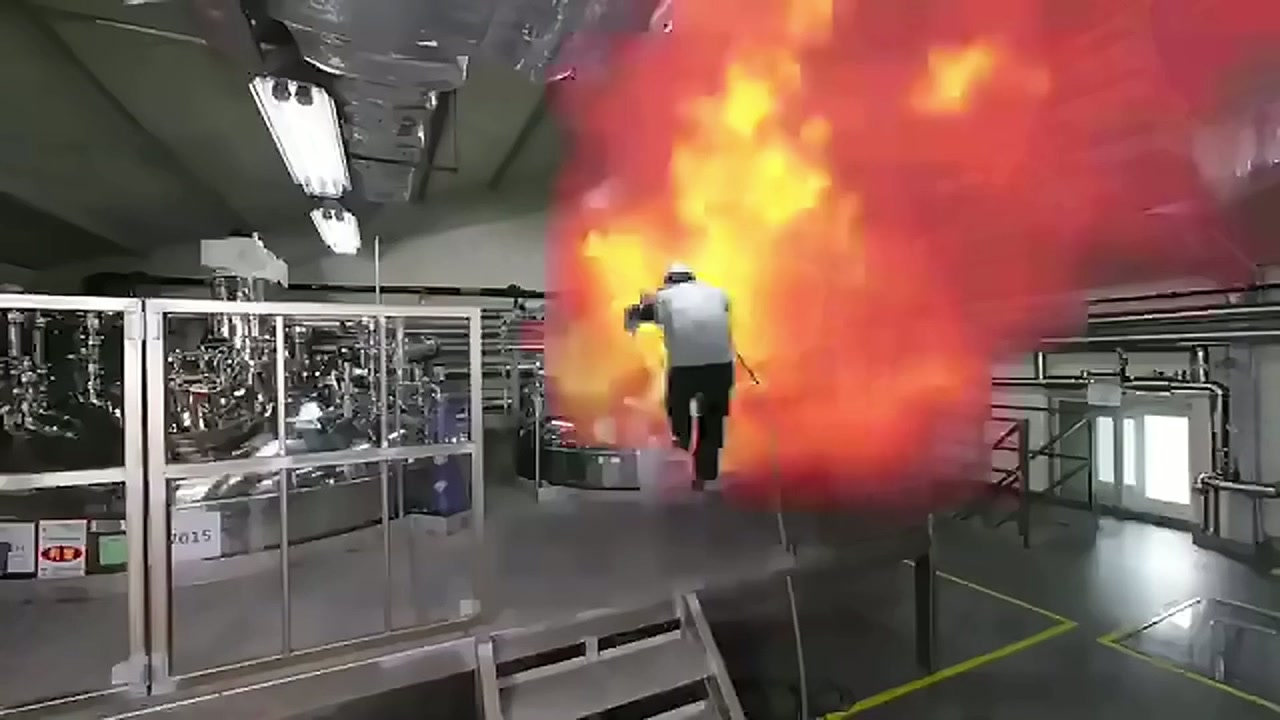fire: (640, 108, 1280, 468)
